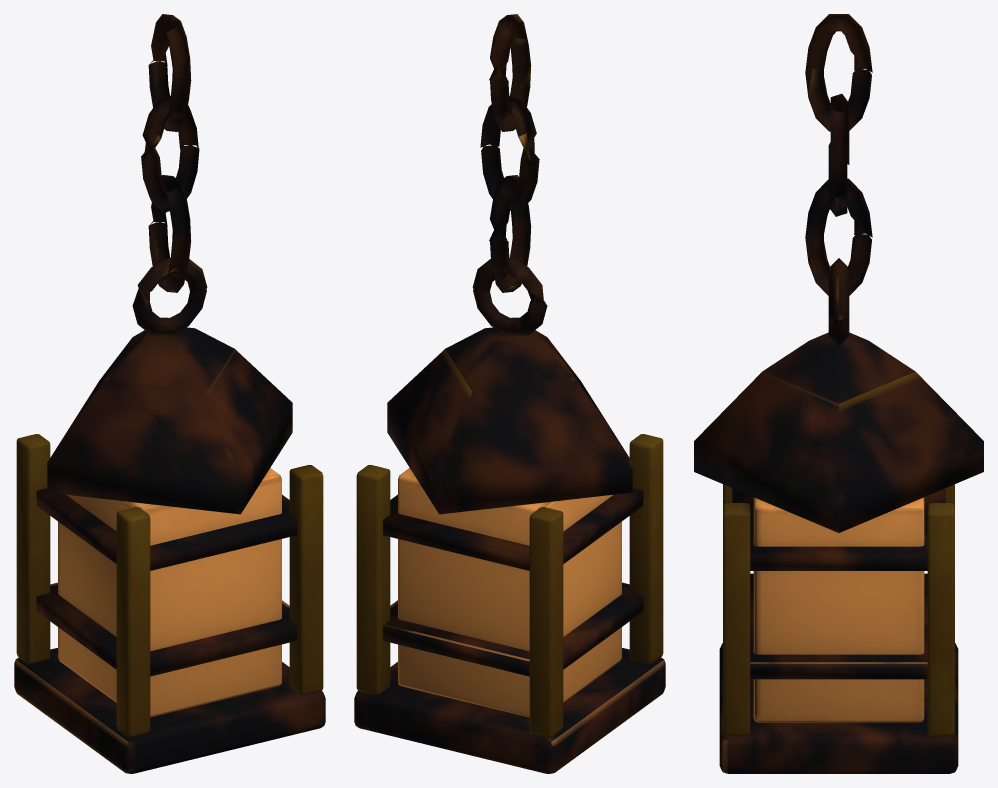
Rendered from gorge_lantern.obj.
3 renders of one model, left to right at view 1: azimuth 30°, elevation 25°; view 2: azimuth 150°, elevation 25°; view 3: azimuth 270°, elevation 25°, orthographic. The views are drawn at different scales.
Visible parts, largest first — view 1: part0, fire, part2; view 2: part0, fire, part2; view 3: part0, fire, part2.
Boxes of the visible parts, x1,y1,x2,y2 form: part0: (14, 14, 325, 773); fire: (58, 468, 281, 717); part2: (16, 434, 323, 737); part0: (354, 14, 665, 773); fire: (398, 468, 621, 717); part2: (356, 434, 663, 737); part0: (694, 14, 983, 773); fire: (753, 497, 924, 722); part2: (723, 484, 954, 735).
Bounding box in the file's own units: 0.34 × 0.9211 × 0.34.
